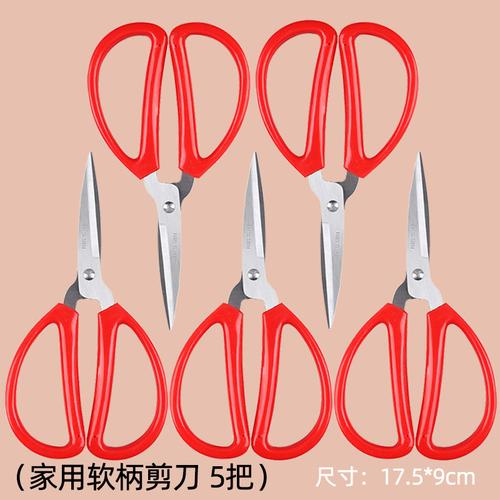scissor: (87, 22, 251, 328), (334, 152, 495, 461)
